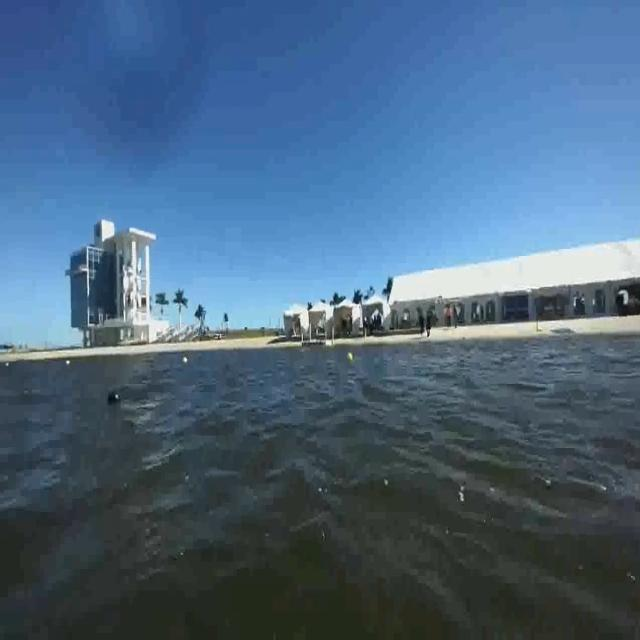black-buoy: (106, 387, 122, 408)
yellow-buoy: (347, 351, 355, 364)
